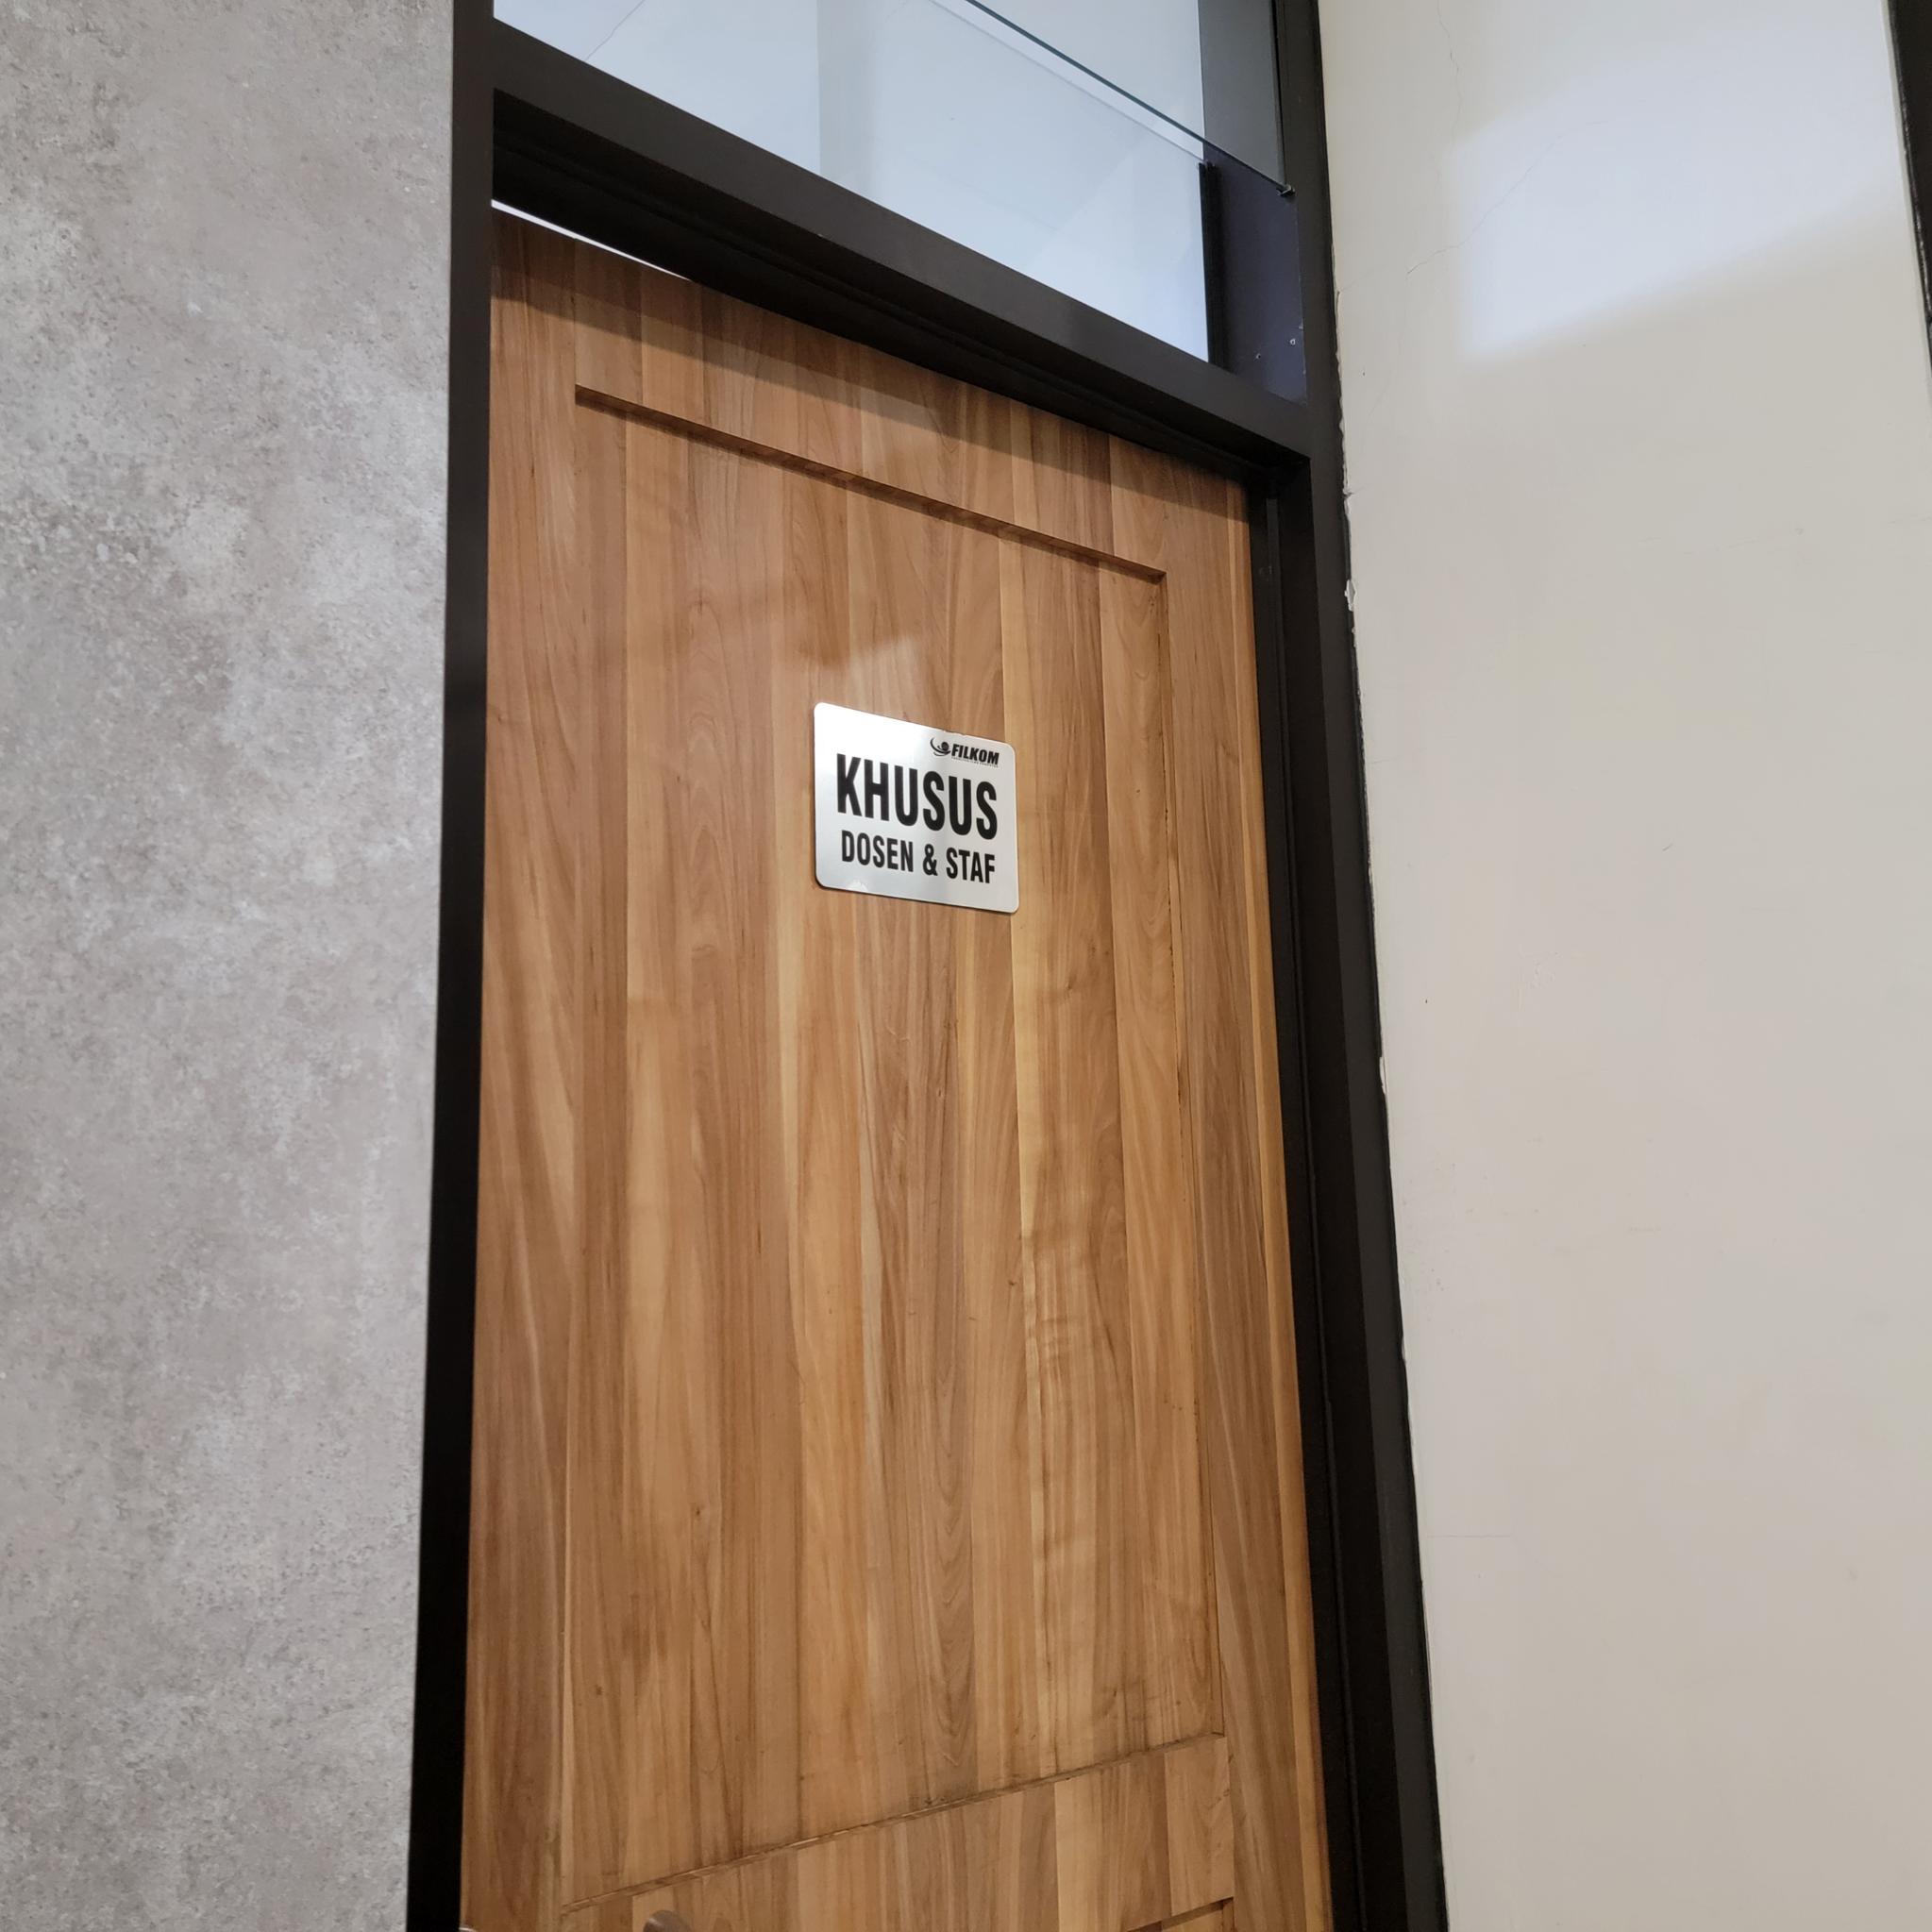plate: (812, 701, 1021, 916)
